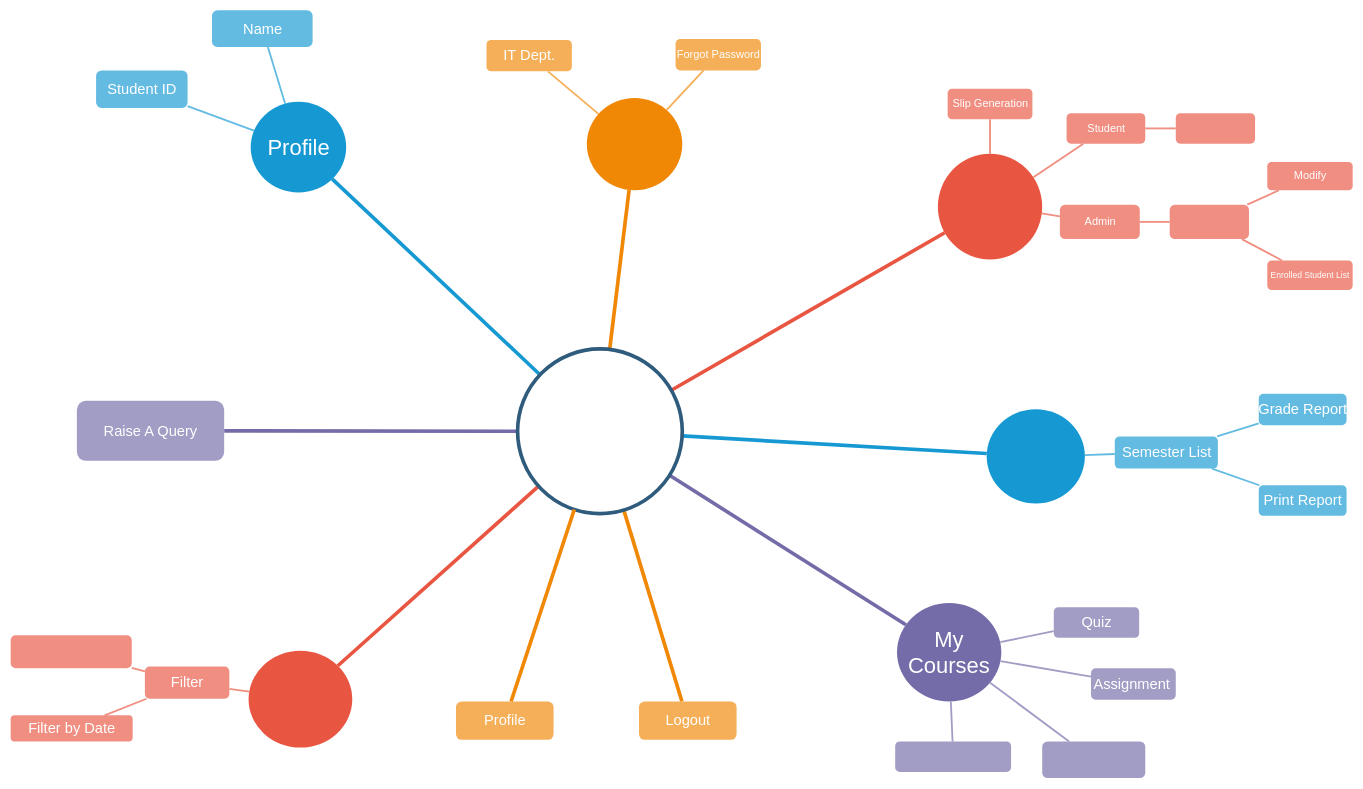
Some shapes in this 1363 by 789 pixel diagram are drawn without their labels. The shapes that lost their labels are listed below. From the top down, each one's box as (x1, y1, x2, y2) in pixels, then its label:
(587, 98, 682, 190): Login
(1175, 113, 1255, 143): Course File
(938, 153, 1042, 259): Course Registration
(1169, 204, 1249, 239): Courses
(515, 347, 684, 515): DashBoard
(986, 409, 1085, 503): Results
(10, 635, 131, 668): Filter by Course
(248, 651, 352, 747): Announcement
(895, 741, 1011, 772): Progress Tracker
(1042, 741, 1145, 778): Course Material
